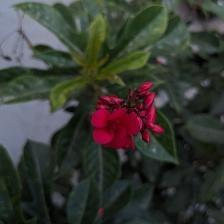jatropha: (91, 107, 141, 154)
